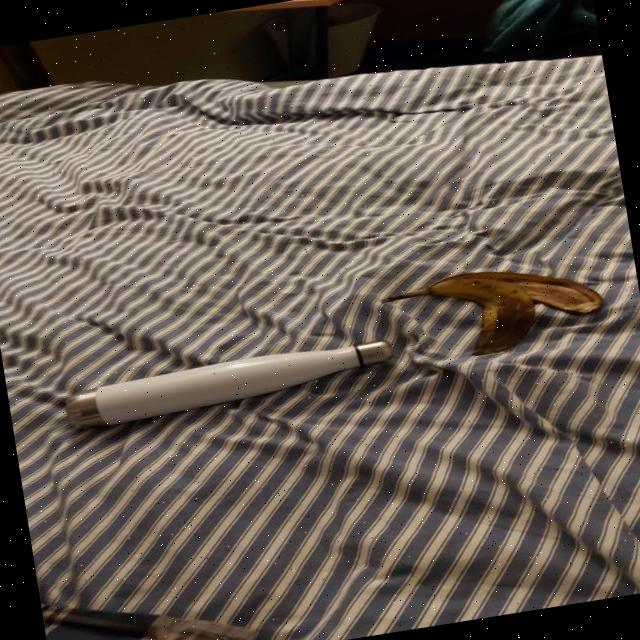banana-peel: (378, 250, 608, 370)
